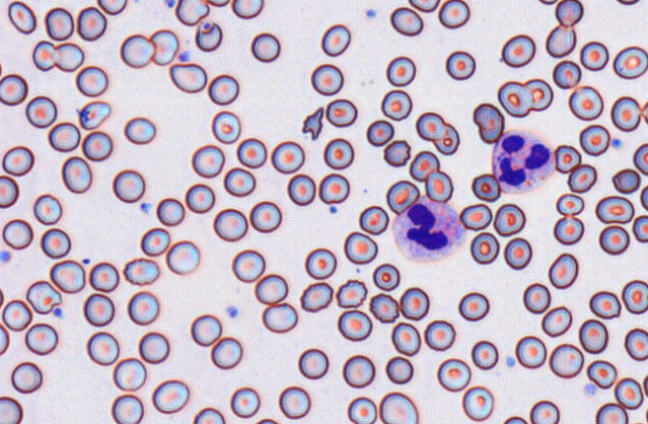GRAN: (393, 195, 468, 262), (490, 127, 557, 194)
PLT: (582, 381, 598, 397), (0, 248, 14, 266), (225, 305, 241, 318), (140, 201, 155, 214), (178, 50, 193, 63), (610, 136, 623, 150), (505, 354, 516, 367), (54, 308, 66, 319), (365, 9, 378, 19), (164, 0, 177, 10), (328, 205, 339, 215)
RBC: (497, 80, 533, 117), (472, 102, 504, 143), (151, 379, 189, 413), (378, 391, 418, 423), (568, 84, 603, 120), (548, 343, 584, 378), (119, 33, 154, 68), (49, 259, 85, 293), (385, 179, 419, 214), (500, 33, 535, 67), (612, 45, 647, 79), (165, 240, 200, 274), (461, 385, 494, 421), (61, 155, 92, 193), (437, 357, 471, 391), (112, 357, 146, 391), (191, 144, 225, 178), (213, 208, 248, 241), (270, 140, 305, 173), (261, 302, 298, 333), (595, 195, 634, 224), (343, 231, 377, 264), (342, 354, 375, 388), (231, 249, 265, 282), (86, 331, 119, 365), (112, 169, 145, 203), (337, 309, 372, 341), (127, 290, 159, 325), (610, 96, 641, 132), (548, 252, 578, 289), (493, 203, 526, 236), (25, 322, 58, 355), (278, 385, 310, 419), (310, 63, 344, 95), (390, 321, 421, 356), (76, 6, 107, 41), (190, 313, 222, 346), (210, 336, 242, 369), (75, 65, 108, 97), (25, 95, 57, 128), (299, 281, 333, 312), (254, 273, 288, 304), (83, 292, 114, 326), (578, 318, 608, 353), (423, 319, 455, 351), (304, 247, 336, 279), (318, 172, 350, 204), (10, 361, 42, 393), (249, 200, 281, 232), (207, 73, 239, 105), (545, 24, 576, 57), (515, 335, 546, 368), (47, 121, 80, 152), (320, 23, 351, 56), (399, 286, 429, 320), (44, 6, 74, 40), (389, 6, 423, 36), (123, 257, 159, 285), (579, 124, 610, 156), (541, 305, 572, 337), (598, 224, 630, 255), (297, 348, 329, 379), (323, 137, 354, 169), (380, 89, 412, 120), (138, 331, 169, 363), (2, 145, 34, 176), (523, 78, 553, 111), (469, 231, 499, 264), (424, 169, 453, 203), (7, 0, 36, 34), (409, 150, 440, 181), (53, 41, 84, 72), (236, 137, 267, 168), (81, 130, 112, 161), (88, 261, 119, 292), (2, 218, 33, 249), (40, 227, 71, 258), (335, 278, 367, 308), (2, 299, 32, 331), (223, 166, 255, 196), (230, 386, 260, 418), (111, 393, 143, 423), (503, 237, 532, 270), (211, 110, 240, 143), (369, 292, 399, 323), (358, 205, 389, 235), (553, 215, 584, 245), (586, 359, 617, 389), (579, 40, 609, 71), (445, 50, 476, 80), (458, 291, 489, 321), (386, 55, 416, 86), (614, 377, 643, 409), (589, 290, 621, 319), (287, 173, 316, 205), (325, 98, 357, 127), (33, 193, 62, 225), (123, 116, 156, 144), (621, 279, 647, 314), (415, 111, 445, 141), (567, 163, 597, 193), (185, 183, 215, 213), (250, 32, 280, 62), (522, 282, 551, 313), (438, 0, 470, 28), (0, 73, 28, 105), (432, 122, 459, 155), (459, 203, 492, 230), (552, 59, 581, 89), (140, 227, 170, 256), (471, 173, 500, 202), (156, 197, 185, 226), (346, 396, 377, 423), (553, 144, 581, 173), (385, 355, 413, 384), (372, 262, 400, 291), (611, 167, 641, 194), (471, 339, 498, 369), (383, 139, 411, 167), (554, 0, 583, 27), (365, 119, 394, 146), (624, 327, 647, 361), (32, 40, 56, 71), (529, 400, 560, 423), (595, 402, 628, 423), (555, 193, 584, 216), (0, 174, 19, 208), (0, 396, 23, 423), (231, 0, 263, 19), (192, 407, 225, 423), (633, 142, 647, 175), (97, 0, 127, 15), (632, 214, 647, 242), (408, 0, 440, 12), (0, 323, 9, 355), (502, 415, 527, 423), (640, 184, 647, 211), (641, 99, 648, 124), (205, 0, 230, 7), (642, 374, 648, 397), (255, 418, 278, 423), (616, 0, 639, 5), (538, 0, 557, 5), (0, 286, 4, 307), (0, 52, 3, 78), (645, 407, 648, 423)
Schistocyte: (25, 280, 62, 315), (170, 62, 207, 94), (149, 30, 179, 65), (300, 106, 327, 143), (175, 0, 211, 26), (80, 101, 112, 129), (195, 22, 224, 52)
